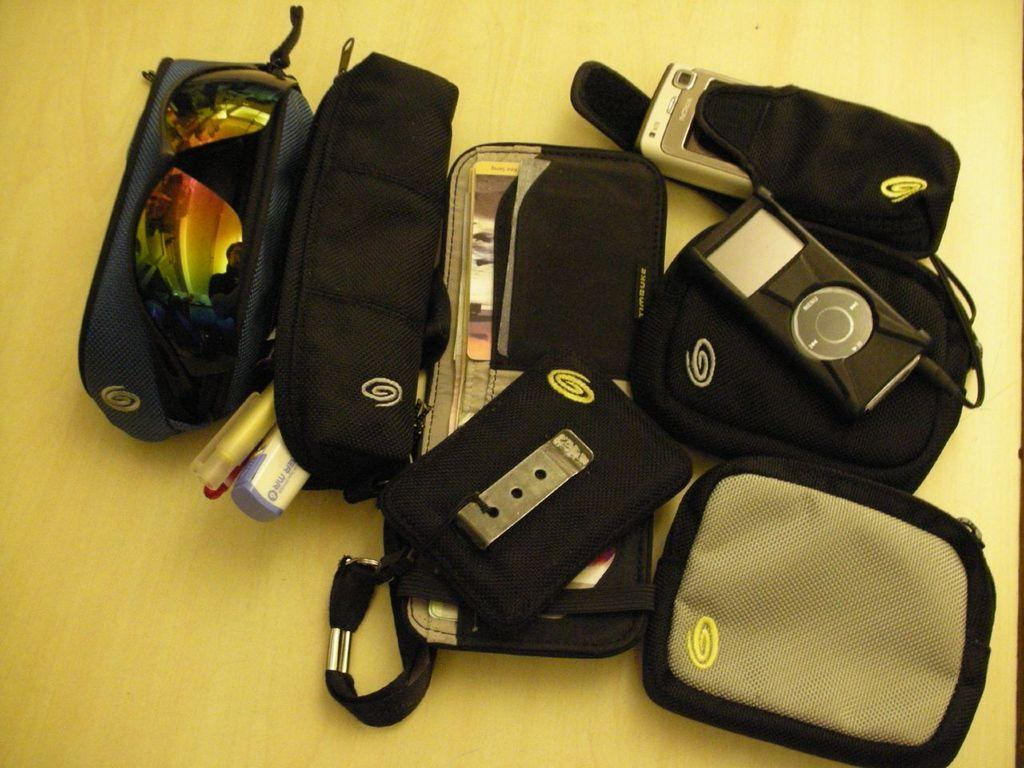Luggage-and-bags: (626, 383, 1006, 768), (323, 365, 693, 733), (74, 5, 317, 446), (642, 218, 985, 494), (263, 38, 455, 499)
